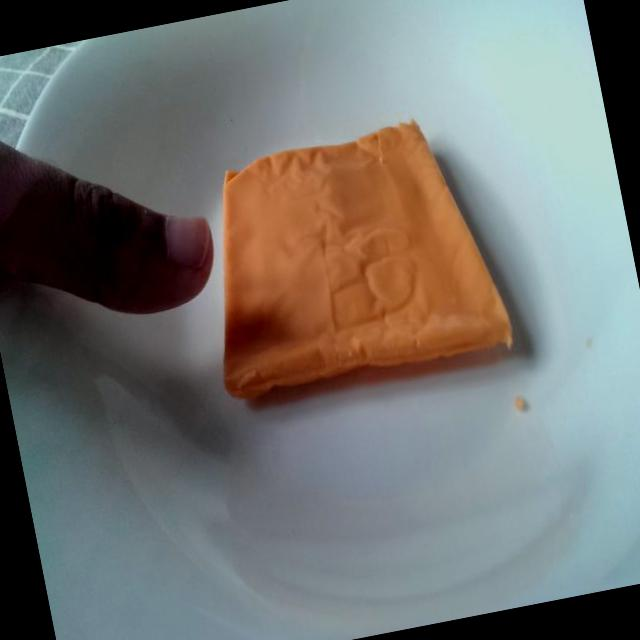Cheese: (180, 96, 528, 432)
Finger: (47, 121, 230, 332)
